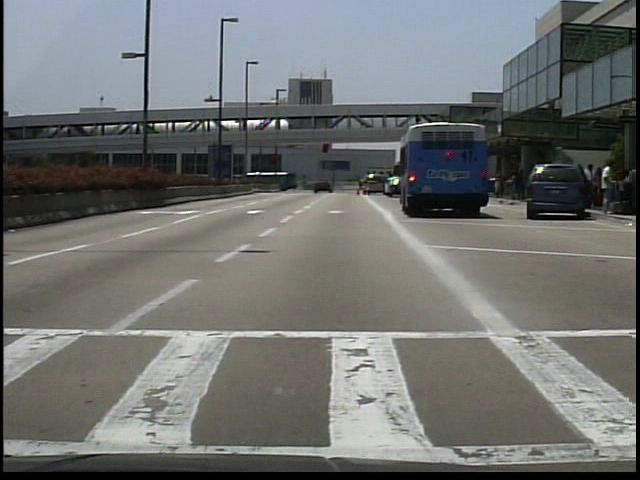person: (600, 158, 620, 214), (583, 163, 598, 210), (594, 165, 609, 212), (516, 167, 528, 203), (314, 181, 323, 197)
